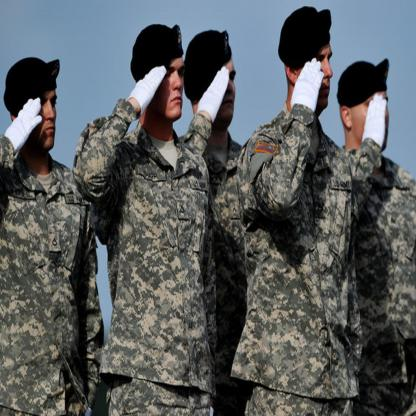face: (155, 40, 187, 121), (209, 40, 238, 122), (306, 25, 334, 108), (361, 73, 390, 148), (31, 79, 57, 151)
